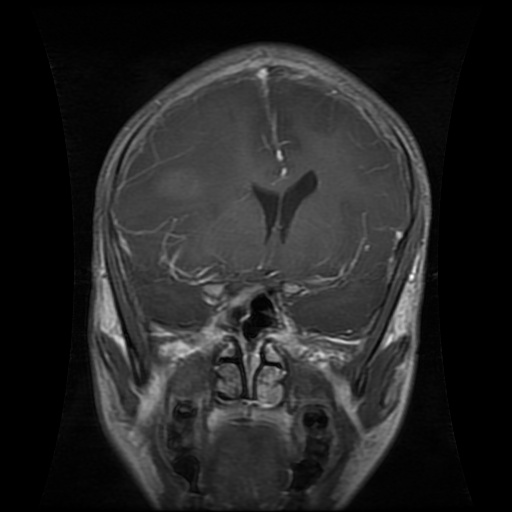glioma: (152, 163, 211, 202)
